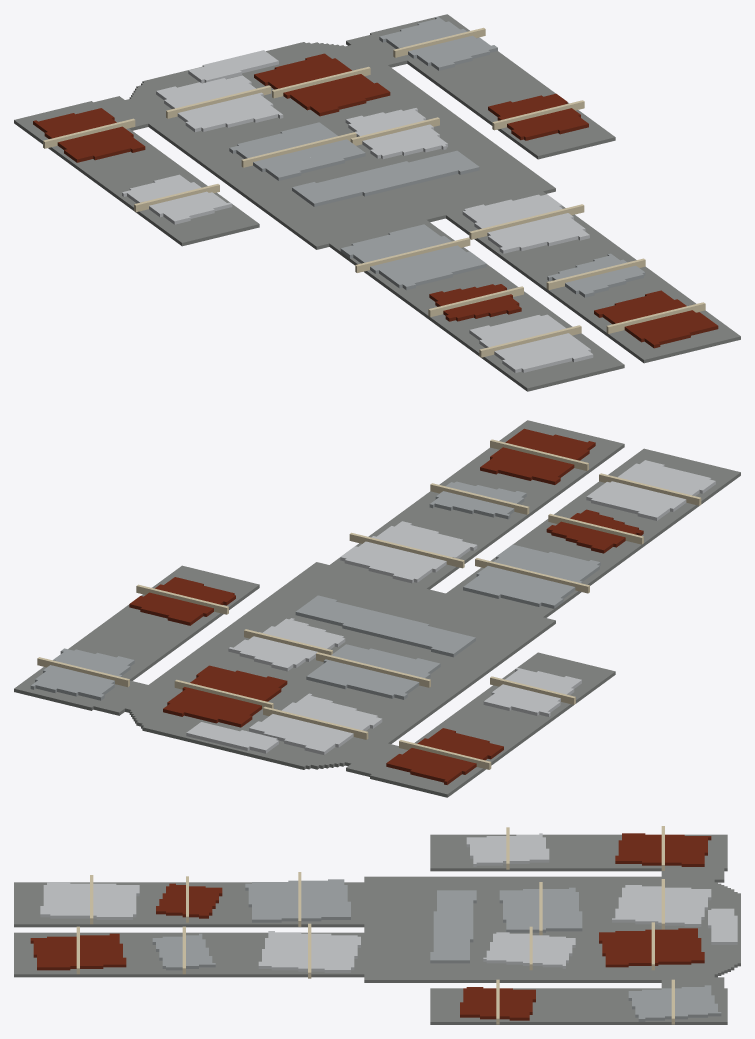
Rendered from armor_scrapsuit.glb.
3 views of the same model, one above another, from view 1: azimuth 30°, elevation 25°; view 2: azimuth 150°, elevation 25°; view 3: azimuth 270°, elevation 25° (orthographic). The views are drawn at different scales.
Visible parts, largest first — view 1: armor_scrapsuit:compound; view 2: armor_scrapsuit:compound; view 3: armor_scrapsuit:compound.
Boxes of the visible parts, <box> form: armor_scrapsuit:compound: <box>14,14,740,391</box>; armor_scrapsuit:compound: <box>14,420,740,797</box>; armor_scrapsuit:compound: <box>14,826,740,1024</box>.
Size of the model in its own units: 0.828 by 0.018 by 1.32.
